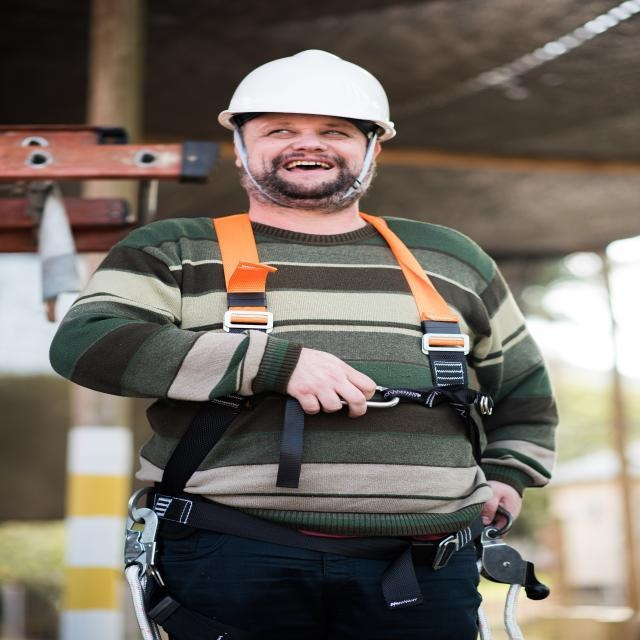Arnes_seguridad: (118, 205, 556, 640)
